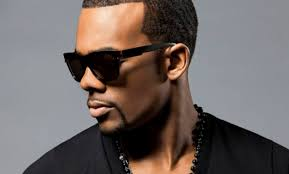black_male: (55, 39, 188, 143)
